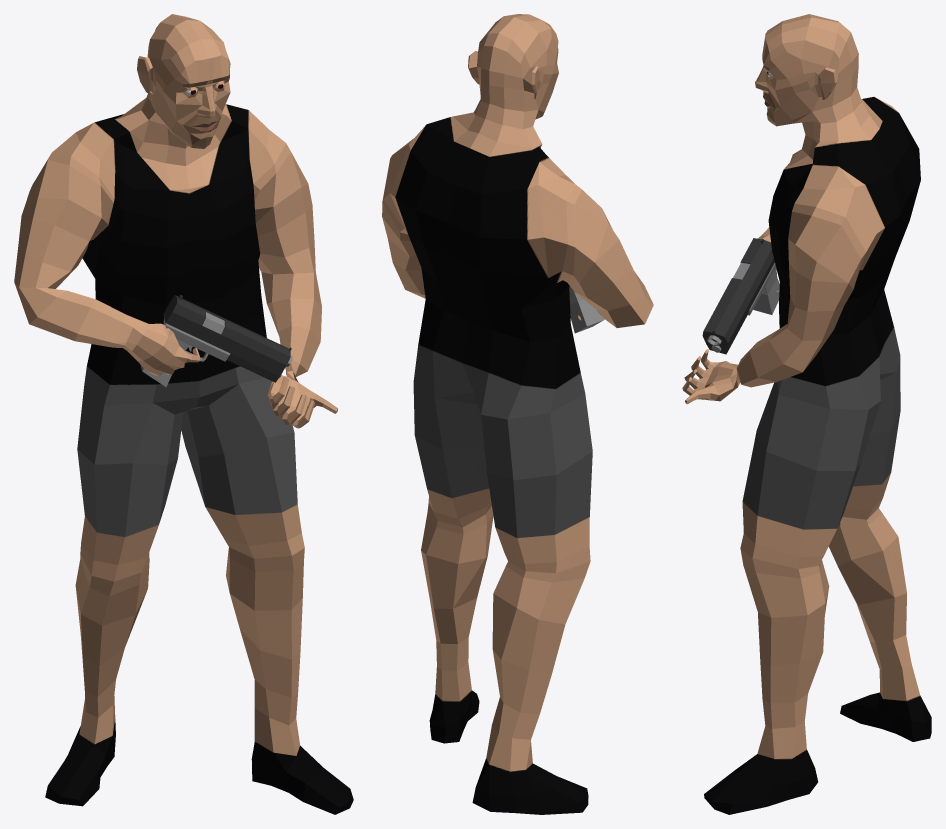
The model's file is PlayerIdle(35).obj.
3 views of the same model, side by side, from view 1: azimuth 30°, elevation 25°; view 2: azimuth 150°, elevation 25°; view 3: azimuth 270°, elevation 25° (orthographic). The views are drawn at different scales.
Visible parts, largest first — view 1: Plane002, Box003; view 2: Plane002, Box003; view 3: Plane002, Box003.
Boxes of the visible parts, x1,y1,x2,y2 form: Plane002: (14,14,353,814); Box003: (140,294,292,387); Plane002: (382,14,653,814); Box003: (569,286,604,333); Plane002: (682,14,931,814); Box003: (702,238,779,354).
Bounding box in the file's own units: 675 × 1807 × 552.
